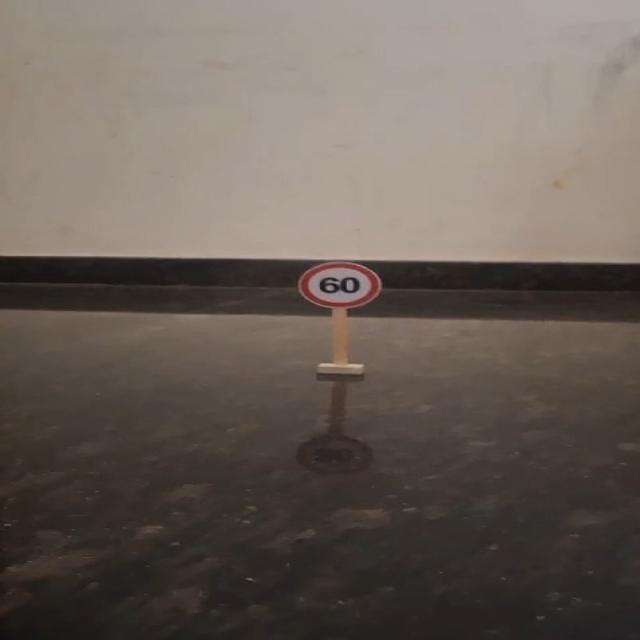Speed60: (297, 260, 385, 310)
